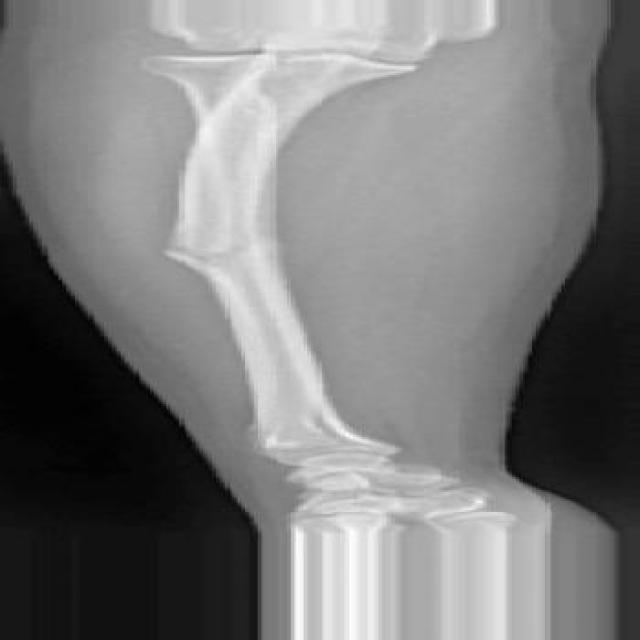Fracture: (137, 234, 306, 273)
